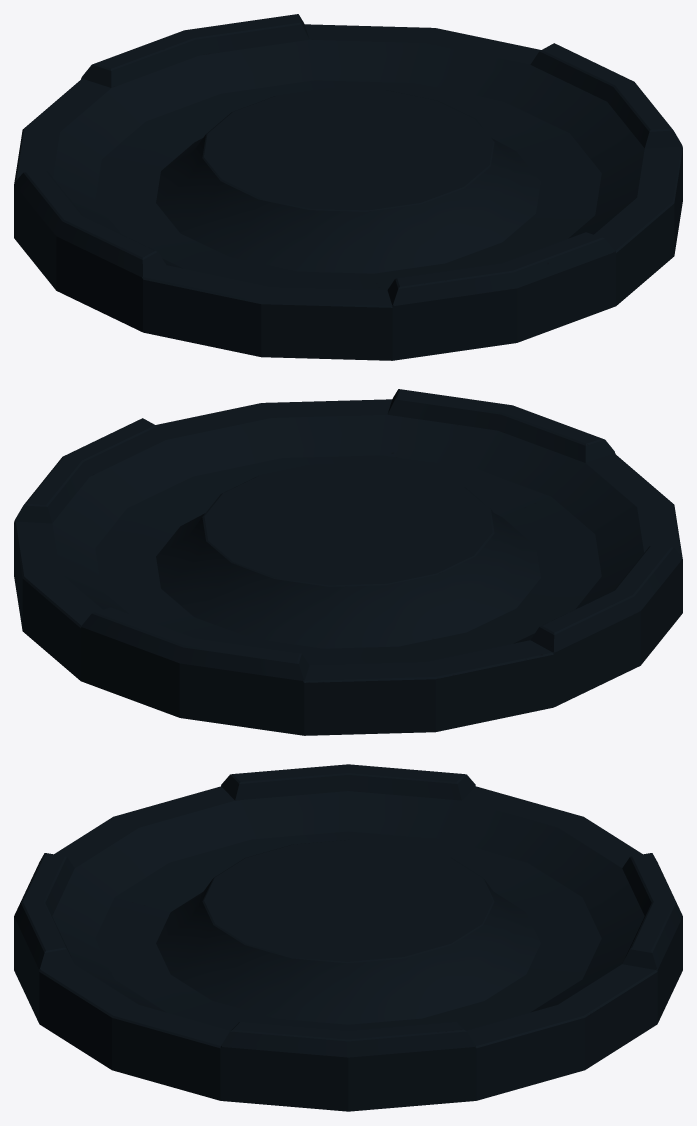
File: TOWER_BASE (2).fbx
The picture shows the model from 3 angles, top to bottom: view 1: azimuth 30°, elevation 25°; view 2: azimuth 150°, elevation 25°; view 3: azimuth 270°, elevation 25°; orthographic projection.
Visible parts, largest first — view 1: tower_base; view 2: tower_base; view 3: tower_base.
Part boxes in pixels (<box>): tower_base: <box>14,14,682,360</box>; tower_base: <box>14,389,682,735</box>; tower_base: <box>14,764,682,1111</box>.
Size of the model in its own units: 200 by 22.94 by 200.
